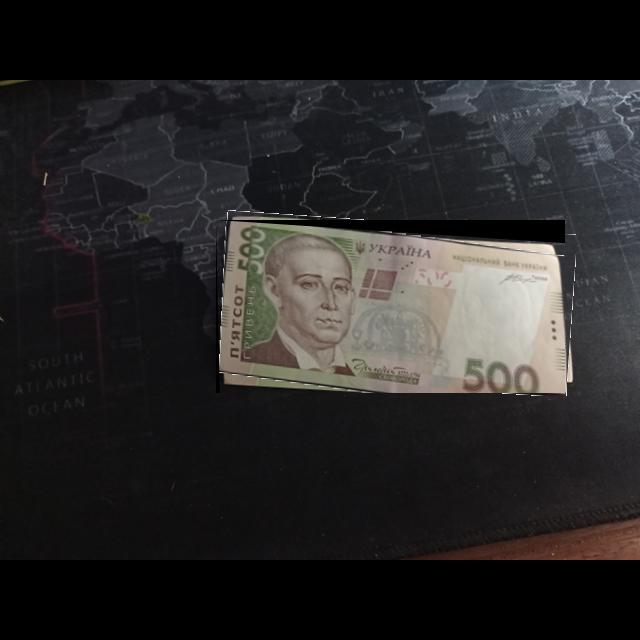500uah: (220, 222, 566, 394)
